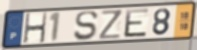1: (48, 11, 62, 44)
8: (152, 8, 172, 37)
E: (124, 7, 151, 39)
H: (22, 12, 49, 45)
S: (73, 10, 99, 42)
Z: (98, 8, 123, 41)
